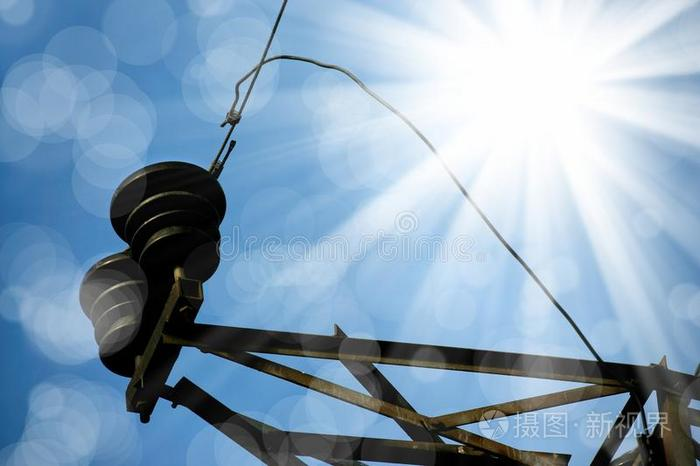insulator: (110, 162, 228, 278), (77, 256, 177, 377)
